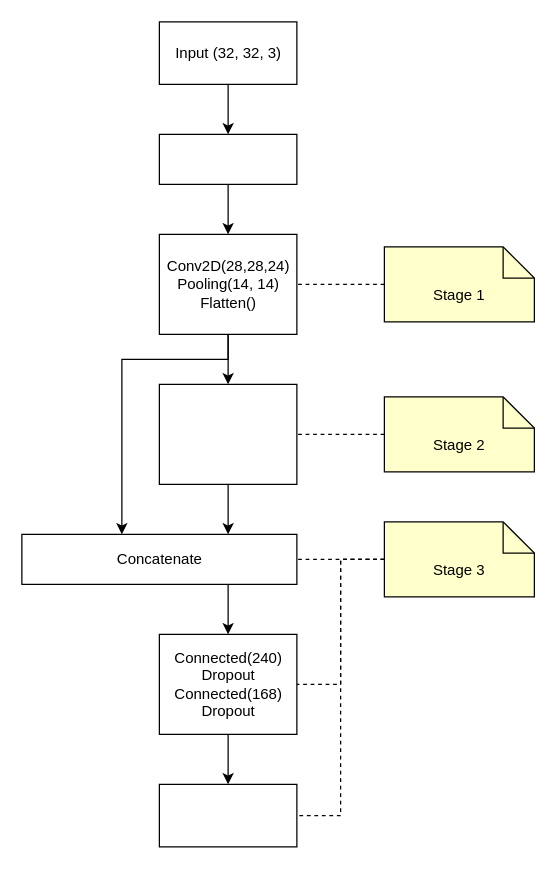
This 556x869 diagram has some shape labels left out. Each missing label, with the box of its shape:
Conv2D (32, 32, 1): (158, 133, 297, 184)
Conv2D(10,10,64) Pooling(5,5) Conv2D(3,3,96) Flatten(): (158, 383, 297, 484)
Logits(43): (158, 783, 297, 847)
